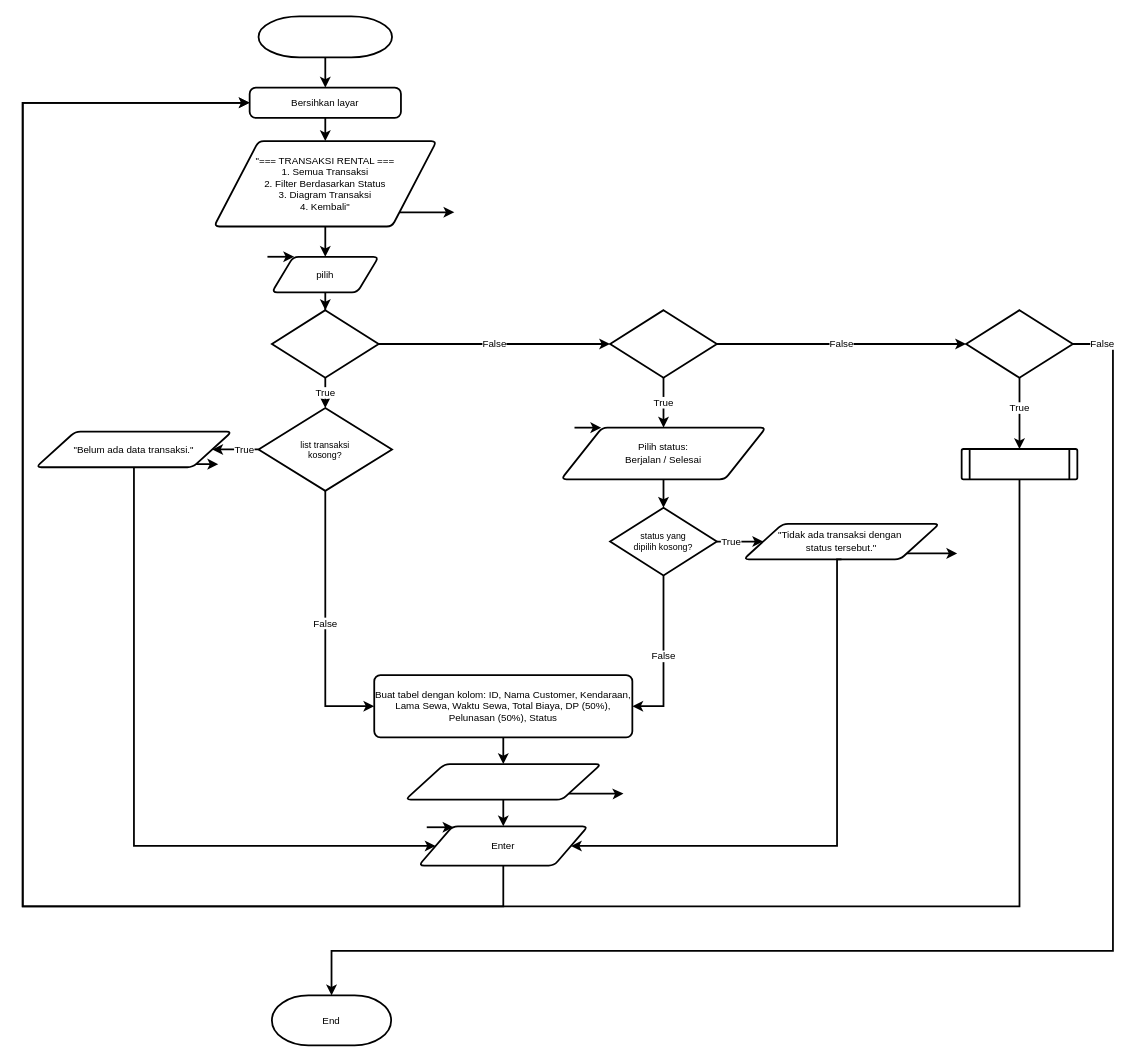
Image size: 1136x1061. Some labels were removed from this diagram. The centre of each missing label's shape, as x and y in pixels:
diagramTransaksi: the point at 1019,464
pilih = 1?: the point at 325,343
pilih = 2?: the point at 663,343
pilih = 3?: the point at 1019,343
Tampilkan tabel ke layar: the point at 503,781
transaksiRental: the point at 324,36
